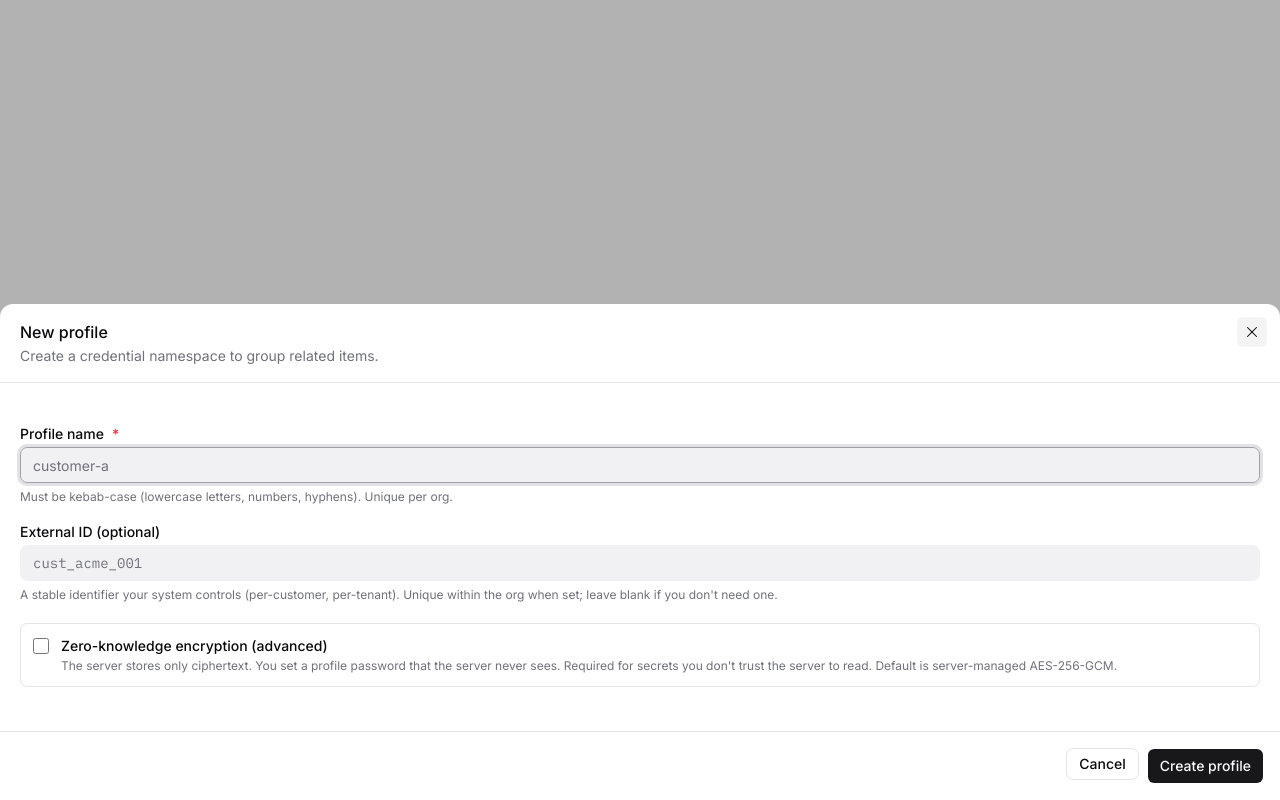
Test: ProfileCreateDrawer — rendering › toggling ZK on reveals the password inputs and warning block
Click the checkbox: (41, 646) [33, 638, 49, 654]
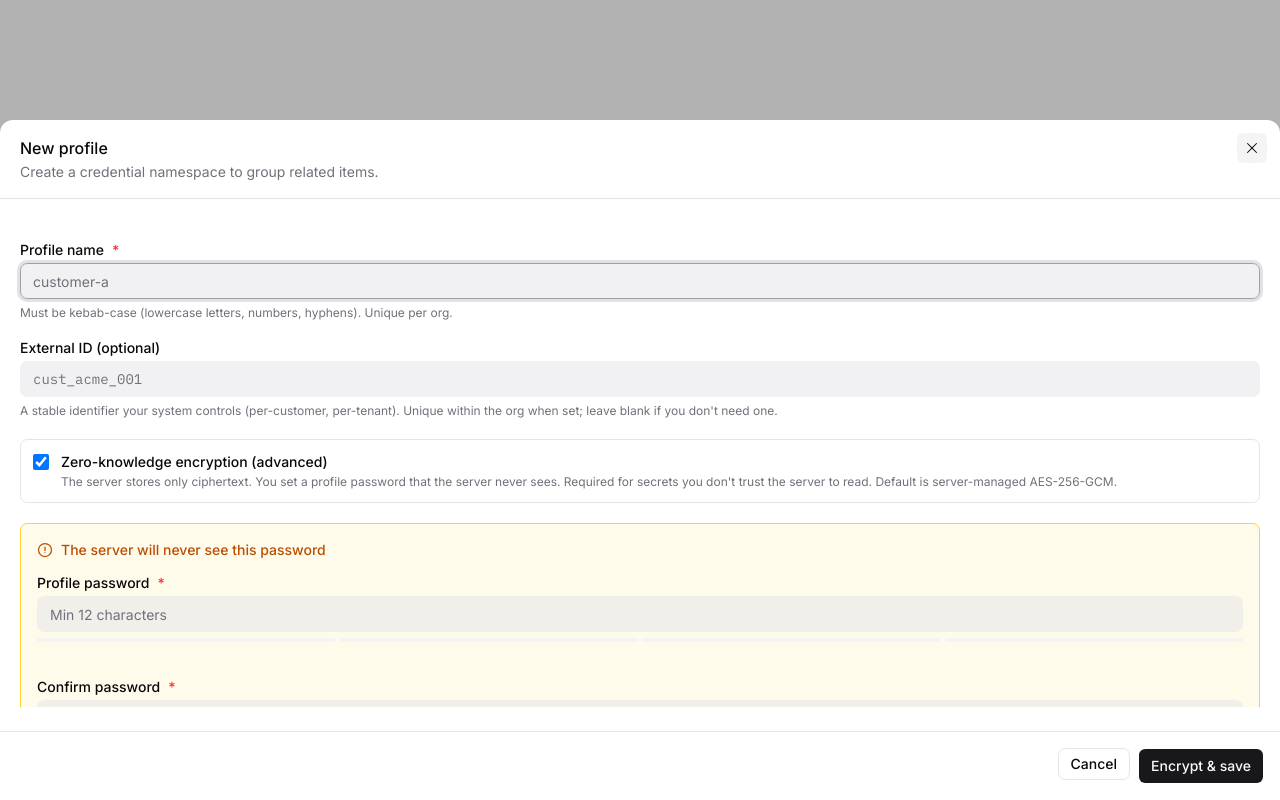
Check: the checkbox is checked, box [33, 454, 49, 470]
Check: the password field labelled "Profile password *" is shown, box [37, 596, 1243, 632]
Check: the text "The server will never see this password" is shown, box [61, 540, 326, 560]
